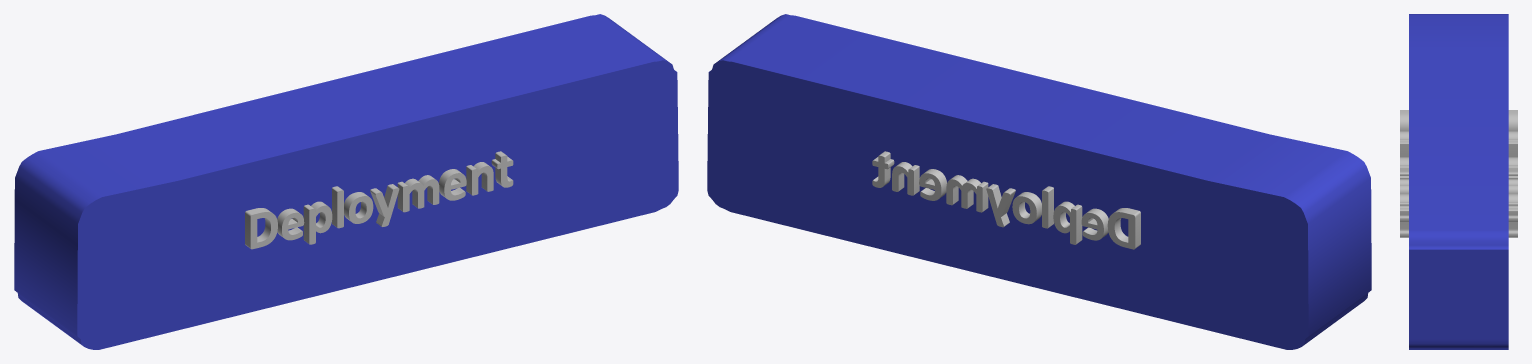
Rendered from deploymodel.fbx.
3 views of the same model, side by side, from view 1: azimuth 30°, elevation 25°; view 2: azimuth 150°, elevation 25°; view 3: azimuth 270°, elevation 25° (orthographic). The views are drawn at different scales.
Visible parts, largest first — view 1: root, node_id131; view 2: root, node_id131; view 3: root, node_id131.
Part boxes in pixels (x1,y1,x2,y2): root: (14, 14, 678, 349); node_id131: (245, 151, 513, 249); root: (707, 14, 1371, 349); node_id131: (872, 151, 1140, 249); root: (1409, 14, 1508, 349); node_id131: (1400, 110, 1517, 237).
Size of the model in its own units: 0.4211 by 0.1022 by 0.0904.
